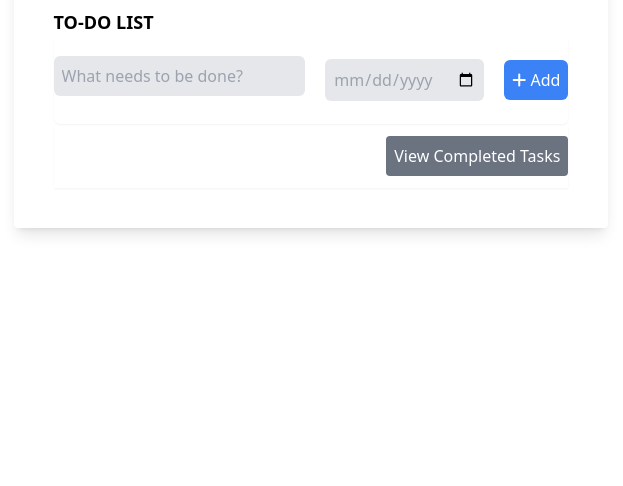
Test: Main Page › can duplicate a todo
The image size is (623, 486).
In the field with test id "todo-text": x=180, y=76 top-left (54, 56), bottom-right (306, 96), type "Todo Item to duplicate"
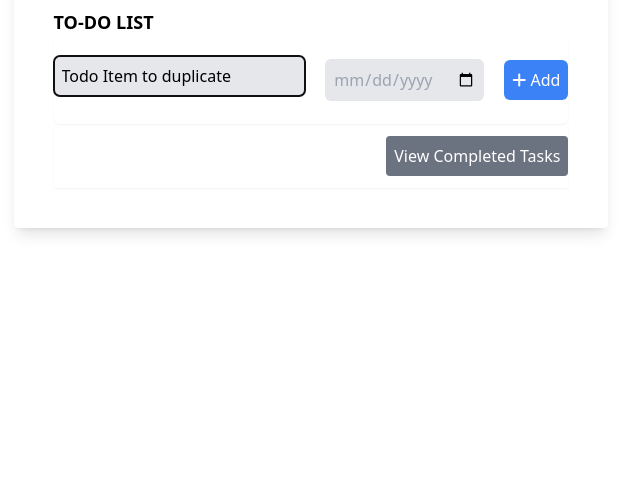
In the date field with test id "date": x=405, y=80 top-left (325, 59), bottom-right (484, 101), type "2024-12-31"
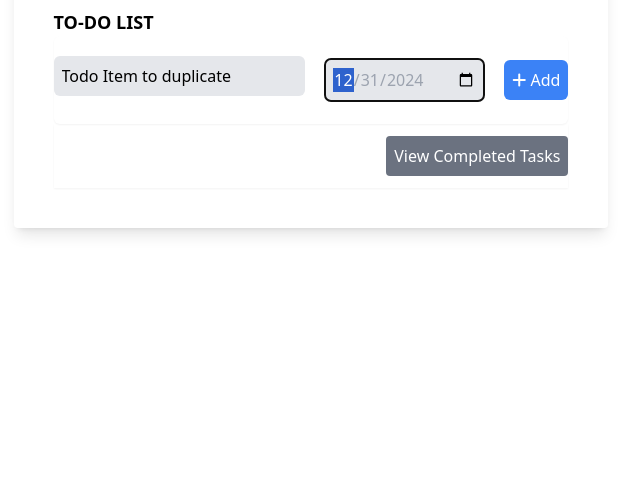
Click the button with test id "add": x=536, y=80 top-left (504, 60), bottom-right (568, 100)
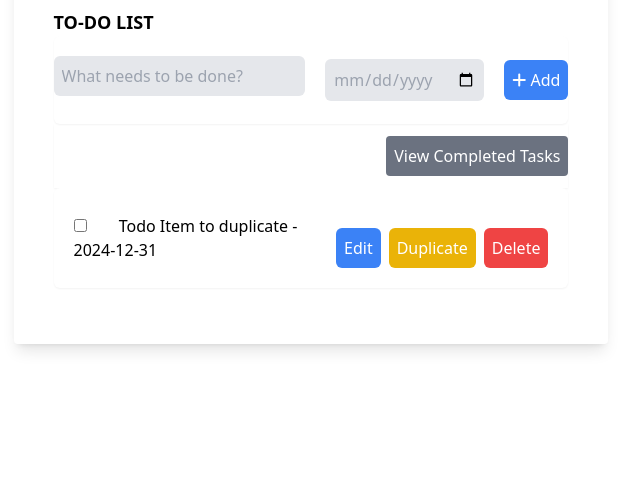
Click the button with test id "duplicate": x=433, y=248 top-left (389, 228), bottom-right (476, 268)
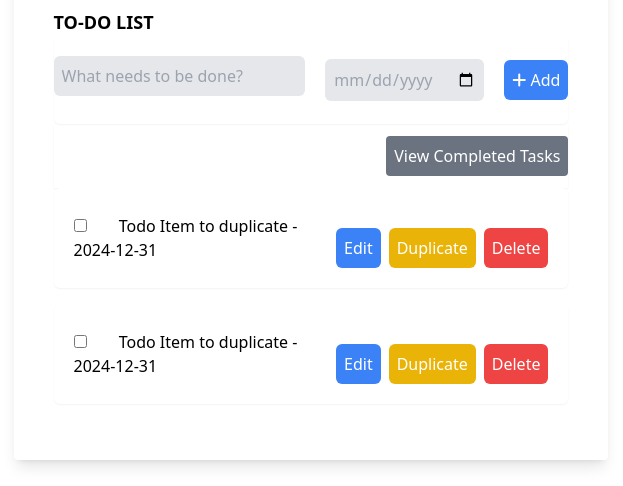
Now the number of elements with test id "todo-item" is 2, box top-left (54, 188), bottom-right (568, 288); top-left (54, 304), bottom-right (568, 404)
